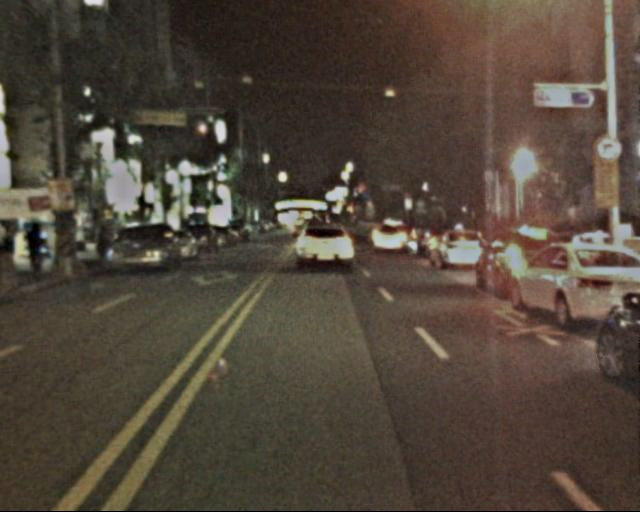person: (24, 219, 59, 276)
